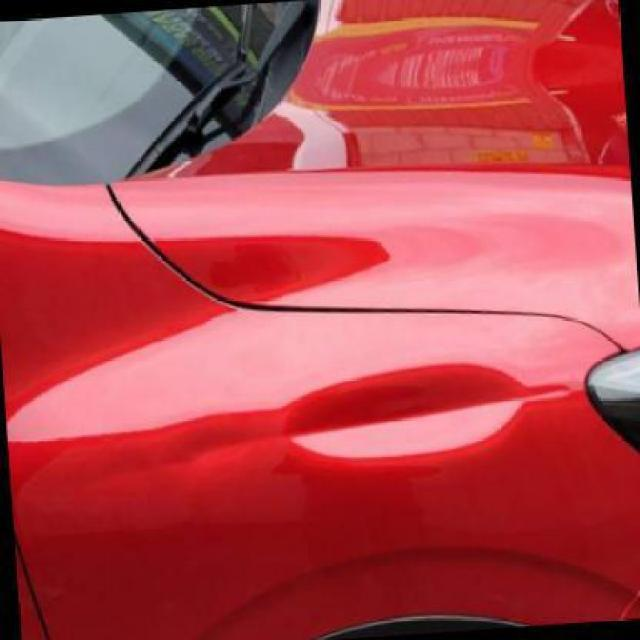dent: (277, 363, 569, 465)
